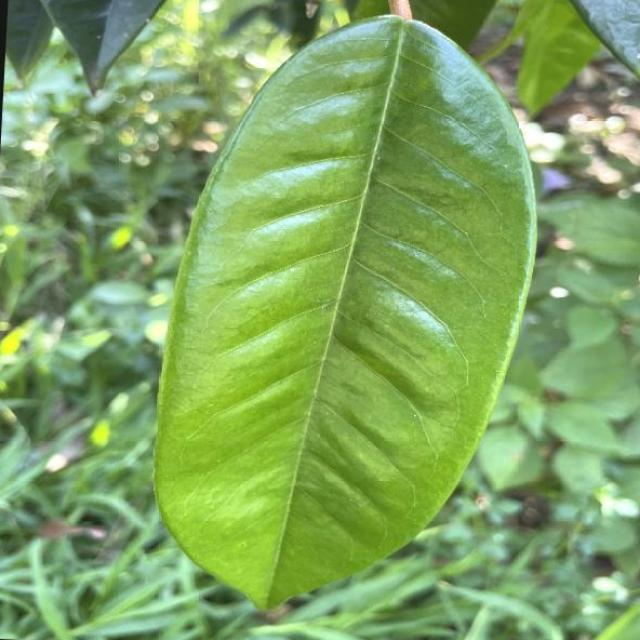No Disease: (136, 0, 556, 630)
